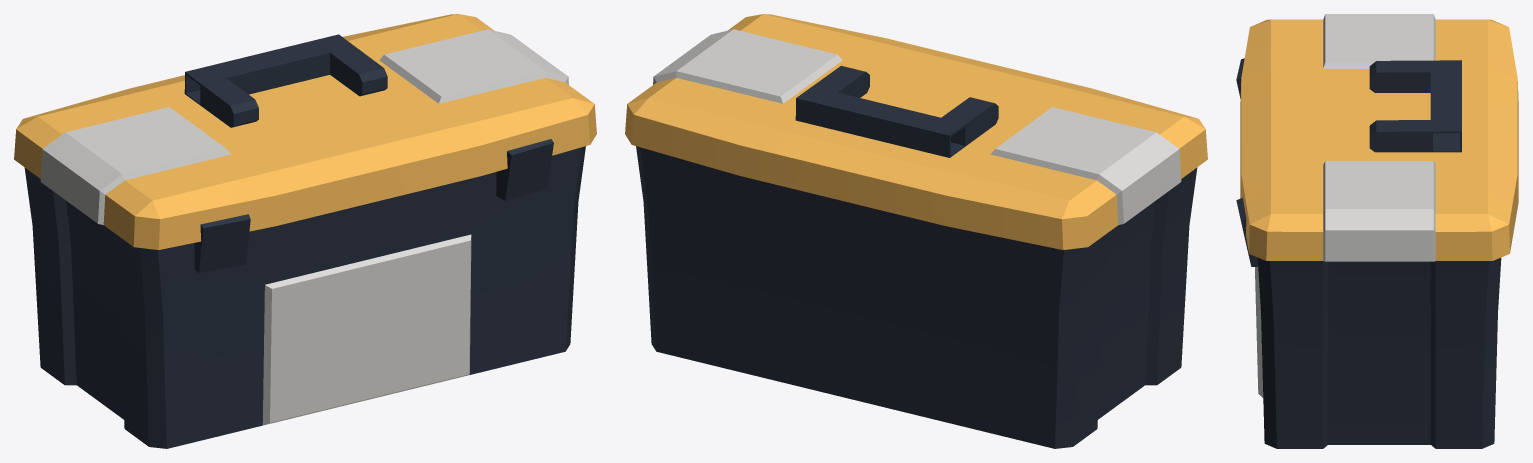
File: toolbox.glb
3 renders of one model, left to right at view 1: azimuth 30°, elevation 25°; view 2: azimuth 150°, elevation 25°; view 3: azimuth 270°, elevation 25°, orthographic. The views are drawn at different scales.
Visible parts, largest first — view 1: Box002_Material #32_0; view 2: Box002_Material #32_0; view 3: Box002_Material #32_0.
Part boxes in pixels (box(x1,y1,x2,y2)): Box002_Material #32_0: box(14, 14, 596, 448); Box002_Material #32_0: box(625, 14, 1207, 448); Box002_Material #32_0: box(1236, 14, 1518, 448).
Bounding box in the file's own units: 36.36 × 19.92 × 19.92.
1 material, 1 textured.
